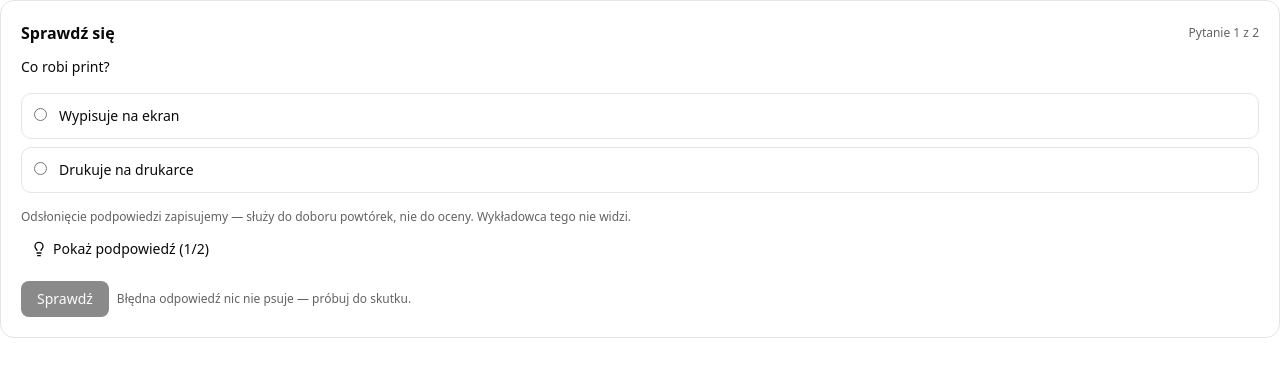
Test case: ItemRunner › ADR-018: 429 z /hint → komunikat po polsku (nie cicha cisza)
The width and height of the screenshot is (1280, 375).
Click the button "Pokaż podpowiedź (1/2)".
click(120, 249)  # box [21, 233, 219, 265]
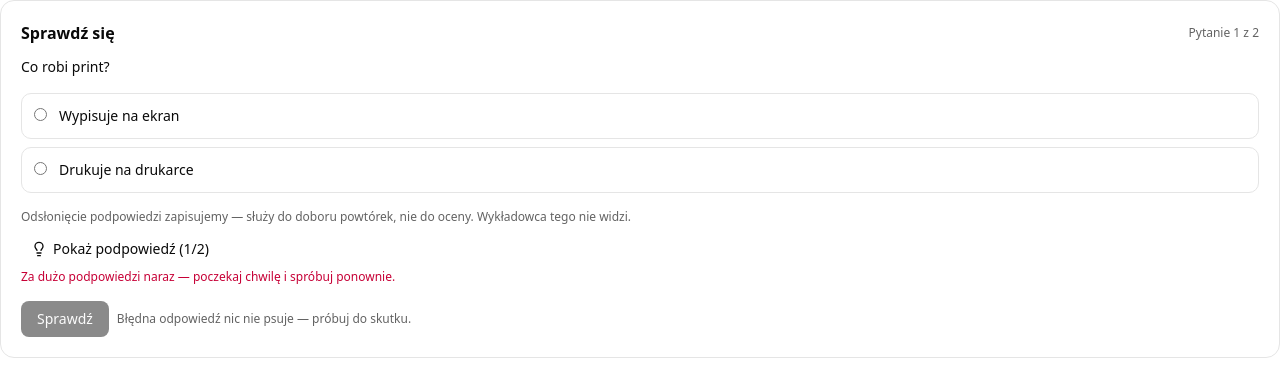
Expected: the text "Za dużo podpowiedzi naraz — poczekaj chwilę i spróbuj ponownie." is shown, [21, 268, 395, 285]
